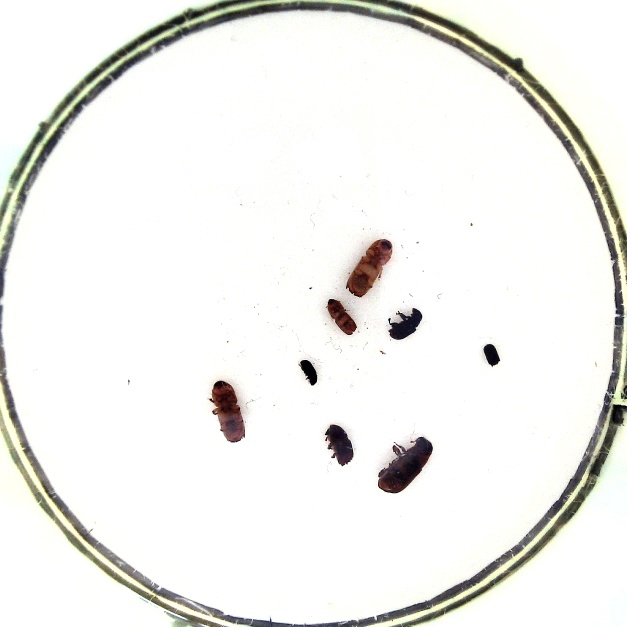acuminatus: (326, 300, 357, 336)
armandi: (385, 305, 423, 344)
boerner: (344, 237, 395, 300), (207, 379, 248, 446)
coleoptera: (295, 359, 321, 386), (481, 341, 501, 368)
leconte: (374, 431, 436, 496)
linnaeus: (325, 423, 354, 467)
